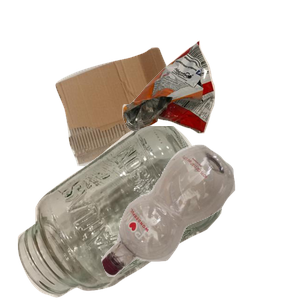cardboard: (53, 45, 221, 204)
glass: (15, 126, 229, 300)
plastic: (99, 142, 300, 300)
trash: (120, 38, 300, 164)
